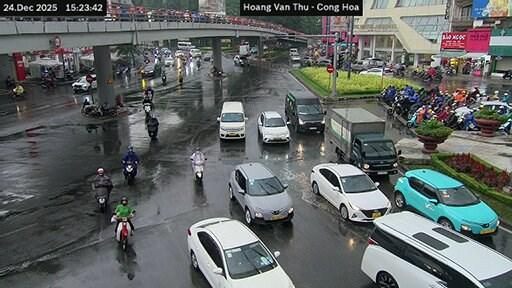motorbike: (112, 211, 134, 250), (80, 103, 115, 116), (92, 184, 108, 211), (406, 108, 425, 126), (192, 157, 204, 184), (122, 162, 135, 184), (39, 73, 57, 88), (464, 111, 477, 129), (499, 117, 511, 134), (147, 121, 157, 139), (10, 88, 25, 98), (143, 102, 150, 121), (64, 68, 73, 79), (445, 67, 454, 75), (160, 73, 166, 82), (179, 75, 182, 84), (195, 59, 198, 68)
